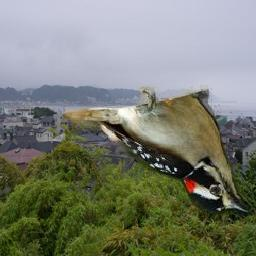Woodpecker: (63, 85, 252, 221)
